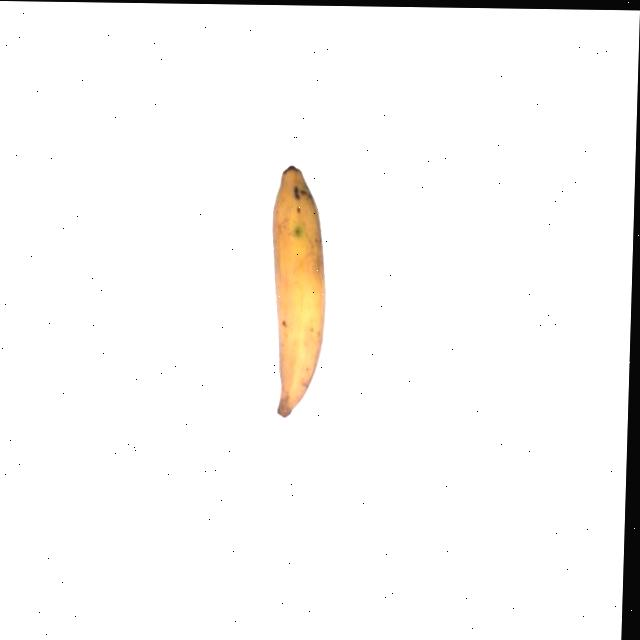banana: (264, 161, 333, 421)
